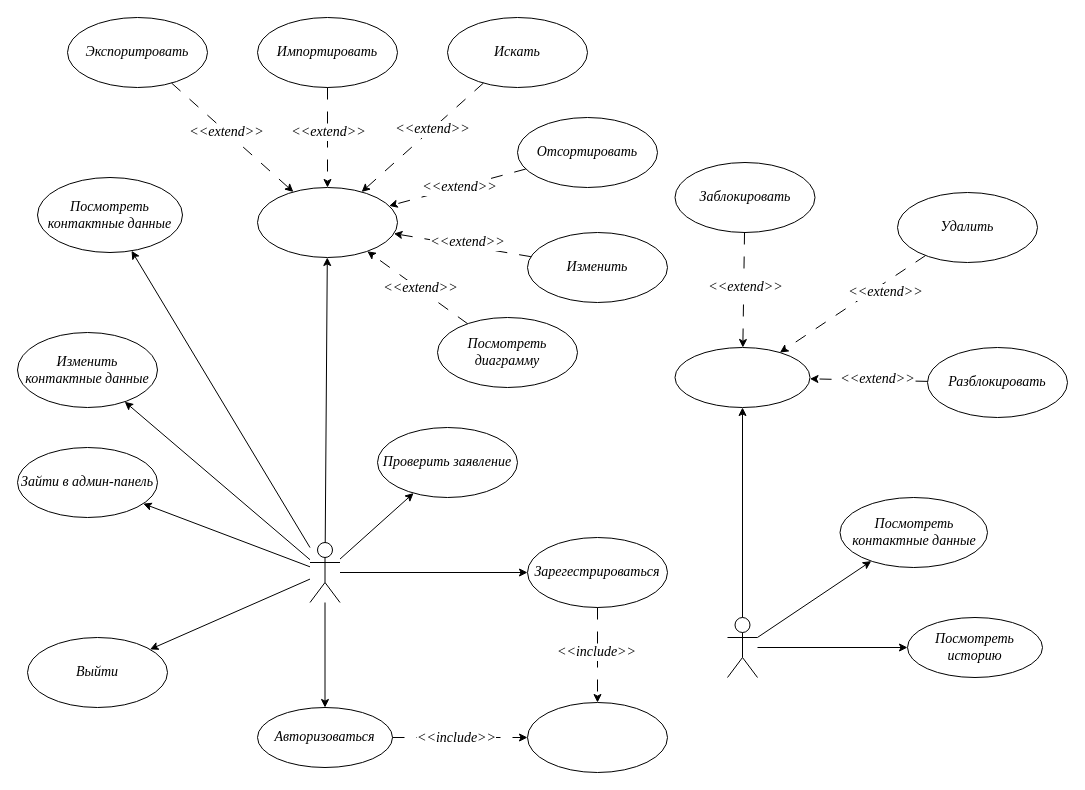
The diagram is 1085 pixels wide and 790 high, and some of its shapes have lost their labels. Each missing label, with the centre of its shape:
Администратор: (742,647)
Ввести логин и пароль: (597,737)
Выбрать пользователя: (742,377)
Выбрать таблицу: (327,222)
Пользователь: (324,572)
